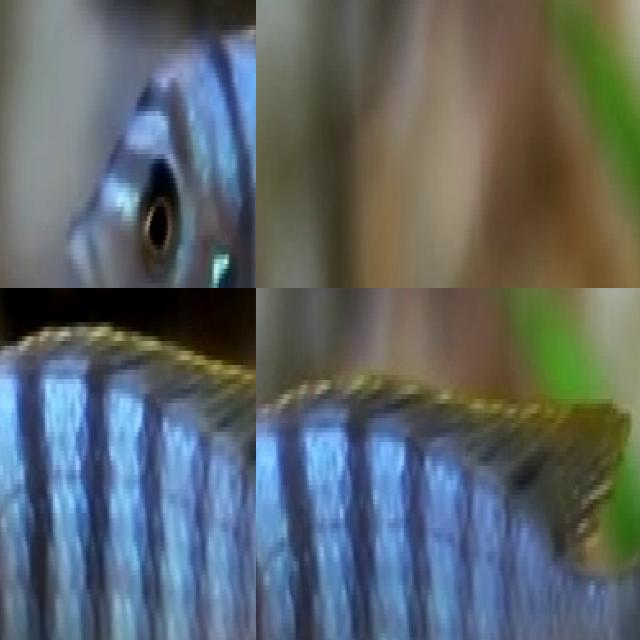fish: (256, 288, 640, 640), (0, 317, 256, 640), (0, 0, 256, 288)
